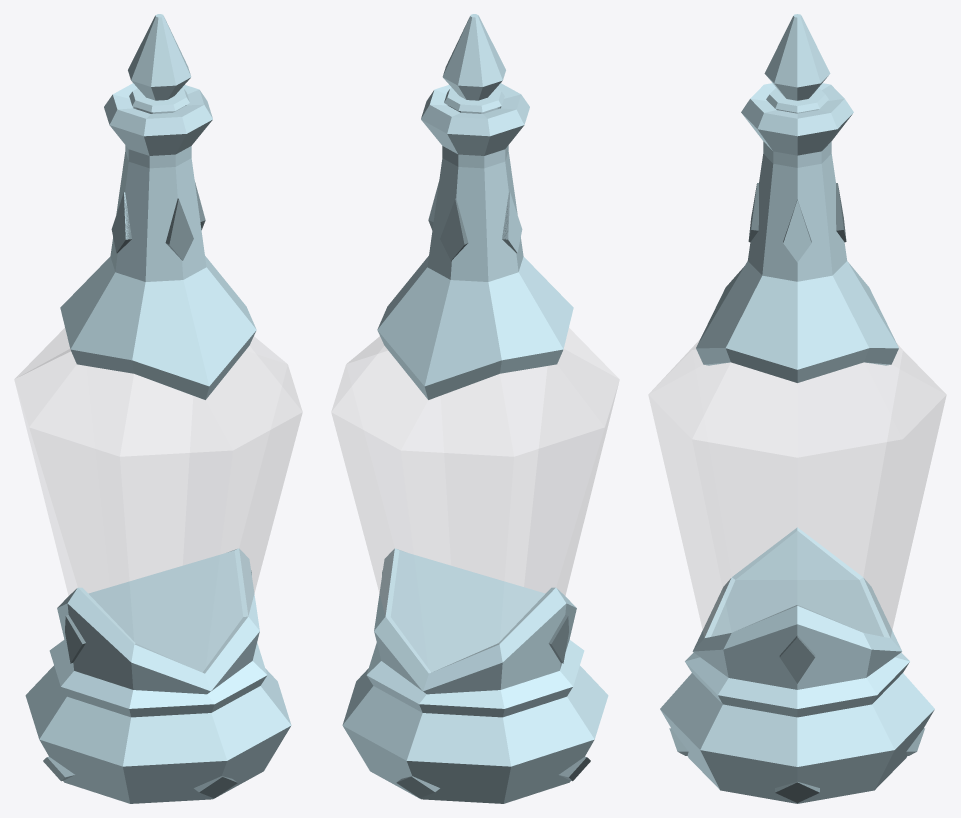
The model's file is Type_03_Empty.fbx.
3 renders of one model, left to right at view 1: azimuth 30°, elevation 25°; view 2: azimuth 150°, elevation 25°; view 3: azimuth 270°, elevation 25°, orthographic.
Parts seen in each view (by area): view 1: Type_03b_Bottle, Type_03b_Cork; view 2: Type_03b_Bottle, Type_03b_Cork; view 3: Type_03b_Bottle, Type_03b_Cork.
Part boxes in pixels (box(x1,y1,x2,y2)): Type_03b_Bottle: box(14, 83, 302, 803); Type_03b_Cork: box(128, 14, 191, 113); Type_03b_Bottle: box(331, 83, 619, 803); Type_03b_Cork: box(442, 14, 505, 113); Type_03b_Bottle: box(648, 83, 946, 803); Type_03b_Cork: box(764, 14, 830, 113).
Bounding box in the file's own units: 15 × 41.19 × 15.
